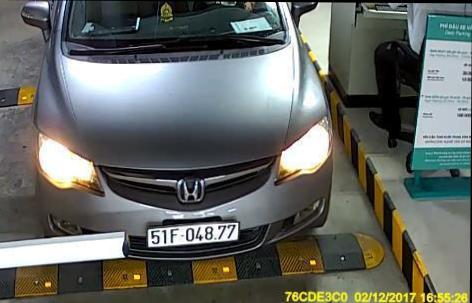License_Plate: (147, 220, 243, 246)
